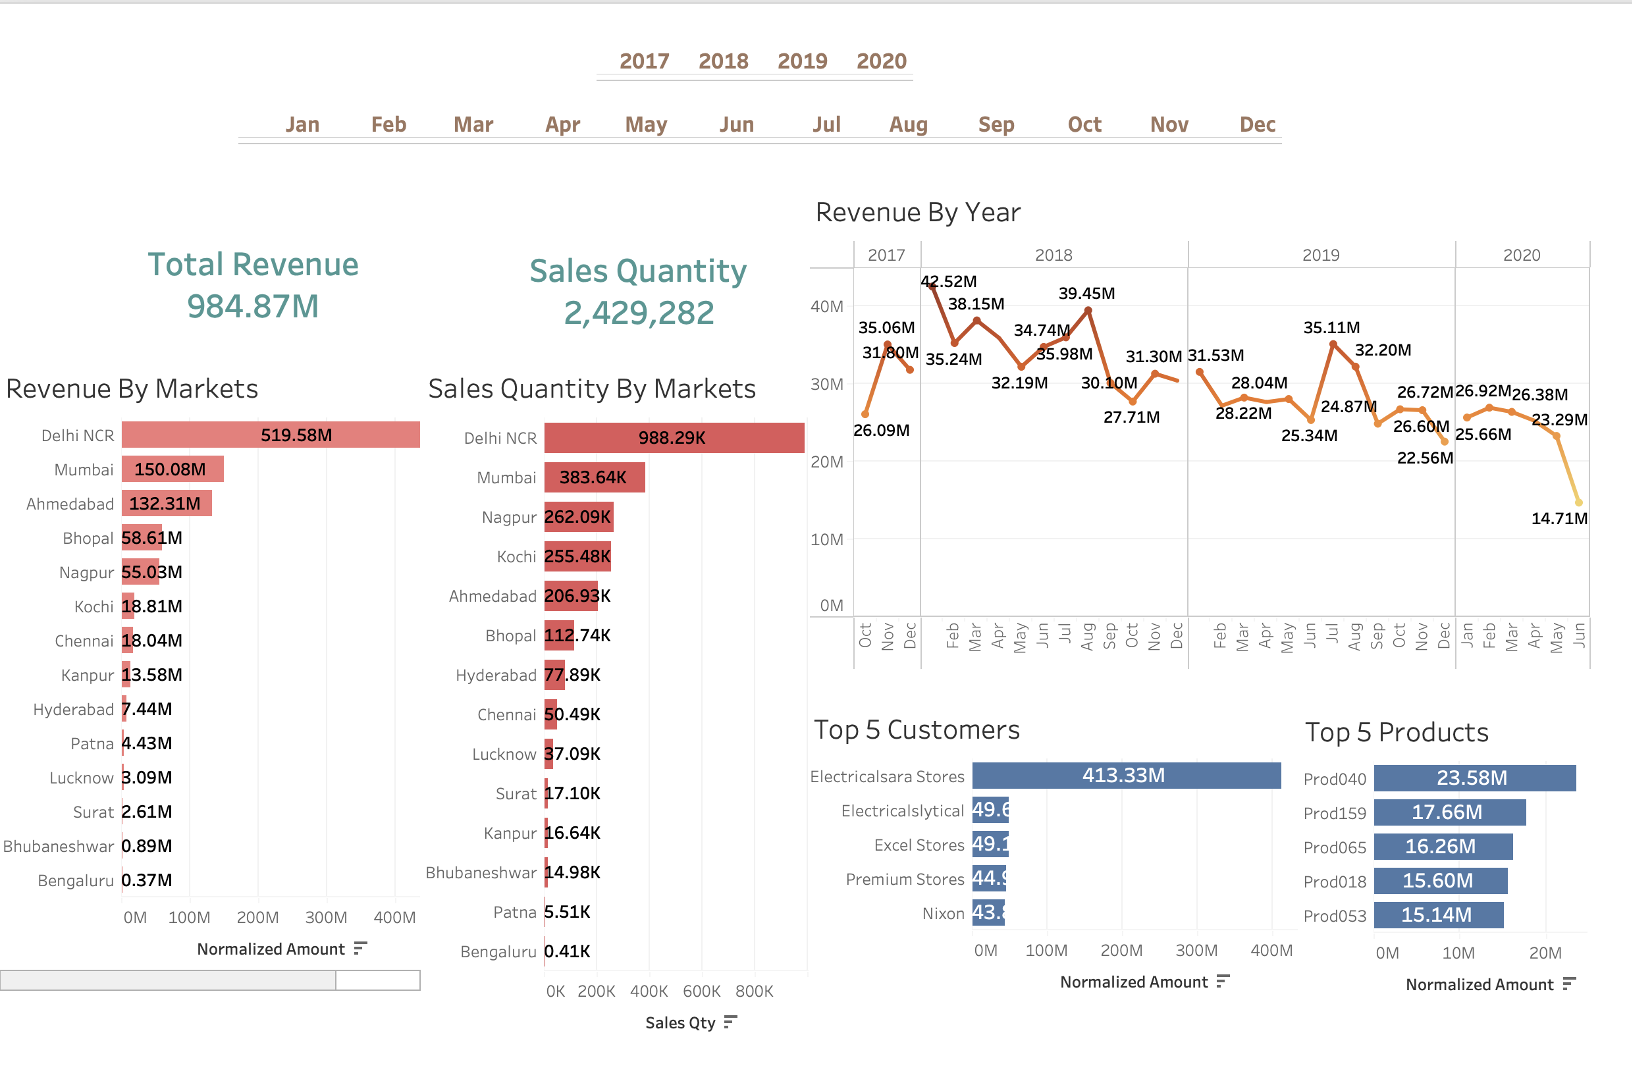

Layout of this report page (visuals, bound fields, positions):
{"tool":"tableau","page":{"name":"Dashboard 1","canvas":[1600,900],"ordinal":0},"visuals":[{"type":"worksheet","title":"Year","mark":"Automatic","cols":["cy_date"],"box":[453,33,271,37]},{"type":"worksheet","title":"Month","mark":"Automatic","cols":["cy_date"],"box":[181,66,799,62]},{"type":"worksheet","title":"Revenue By Year","mark":"Automatic","rows":["Calculation_1005639749875351552"],"cols":["cy_date","cy_date"],"box":[615,137,593,369]},{"type":"worksheet","title":"Revenue","mark":"Automatic","box":[103,165,263,98]},{"type":"worksheet","title":"Quantity","mark":"Automatic","box":[396,170,207,98]},{"type":"worksheet","title":"Revenue By Markets","mark":"Automatic","rows":["markets_name"],"cols":["Calculation_1005639749875351552"],"box":[0,271,319,505]},{"type":"worksheet","title":"Sales Quantity By Markets","mark":"Automatic","rows":["markets_name"],"cols":["sales_qty"],"box":[321,271,300,520]},{"type":"worksheet","title":"Top 5 Customers","mark":"Automatic","rows":["custmer_name"],"cols":["Calculation_1005639749875351552"],"box":[614,530,371,241]},{"type":"worksheet","title":"Top 5 Products","mark":"Automatic","rows":["product_code (products)"],"cols":["Calculation_1005639749875351552"],"box":[987,532,218,252]}]}

Visuals, with their boxes on the page's 1600x900 design canvas (x1, y1, x2, y2). These are canvas units, not pixel positions in the 1632x1072 screenshot, which may show the page scaled, cropped or inside an application window:
"Year" worksheet: region(453, 33, 724, 70)
"Month" worksheet: region(181, 66, 980, 128)
"Revenue By Year" worksheet: region(615, 137, 1208, 506)
"Revenue" worksheet: region(103, 165, 366, 263)
"Quantity" worksheet: region(396, 170, 603, 268)
"Revenue By Markets" worksheet: region(0, 271, 319, 776)
"Sales Quantity By Markets" worksheet: region(321, 271, 621, 791)
"Top 5 Customers" worksheet: region(614, 530, 985, 771)
"Top 5 Products" worksheet: region(987, 532, 1205, 784)
